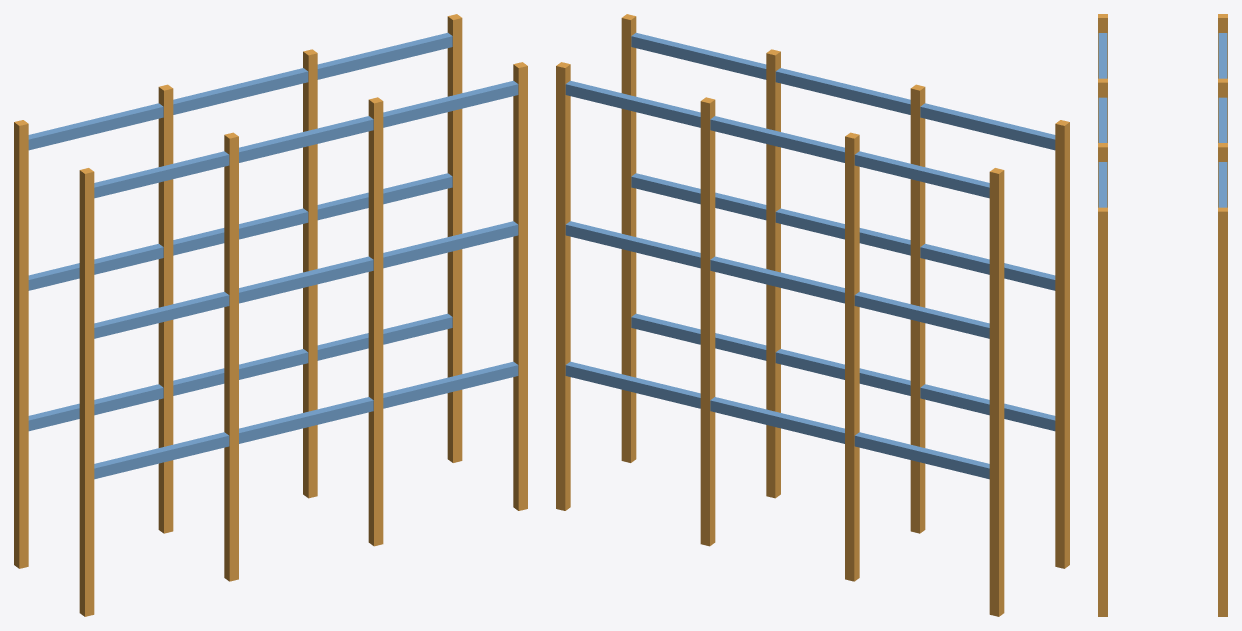
File: shelf_rack.glb
3 views of the same model, side by side, from view 1: azimuth 30°, elevation 25°; view 2: azimuth 150°, elevation 25°; view 3: azimuth 270°, elevation 25° (orthographic). The views are drawn at different scales.
Visible parts, largest first — view 1: shelf_rack.glb; view 2: shelf_rack.glb; view 3: shelf_rack.glb.
Boxes of the visible parts, bbox=[...] form: shelf_rack.glb: bbox=[14, 14, 527, 616]; shelf_rack.glb: bbox=[556, 14, 1069, 616]; shelf_rack.glb: bbox=[1098, 14, 1227, 616].
Bounding box in the file's own units: 4.29 × 4.1 × 1.19.
